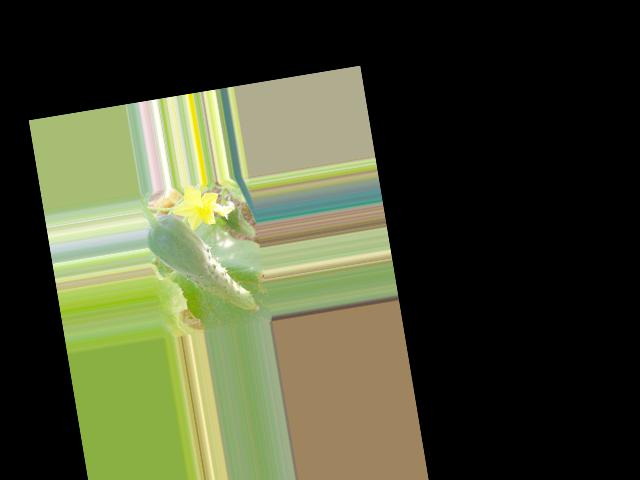cucumber: (143, 201, 260, 327)
